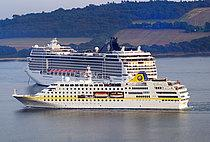Ship: (8, 72, 193, 116), (24, 34, 162, 87)
